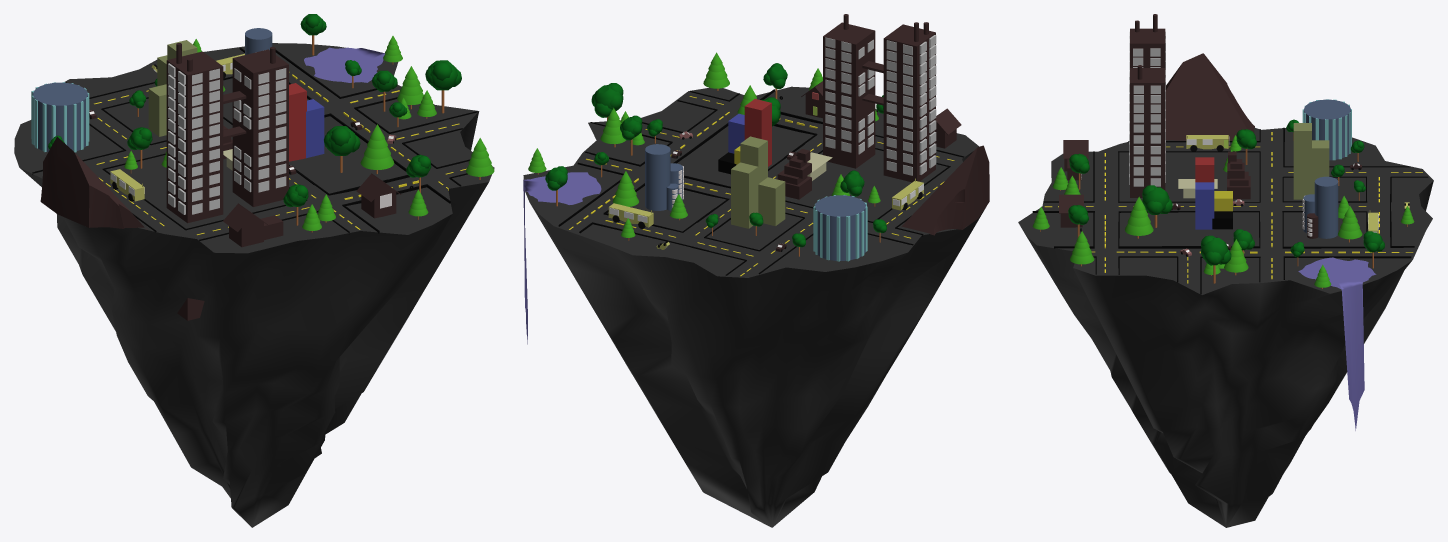
File: city.gltf
3 views of the same model, side by side, from view 1: azimuth 30°, elevation 25°; view 2: azimuth 150°, elevation 25°; view 3: azimuth 270°, elevation 25° (orthographic). The views are drawn at different scales.
Bounding box in the file's own units: 35.31 × 43.35 × 35.13.
